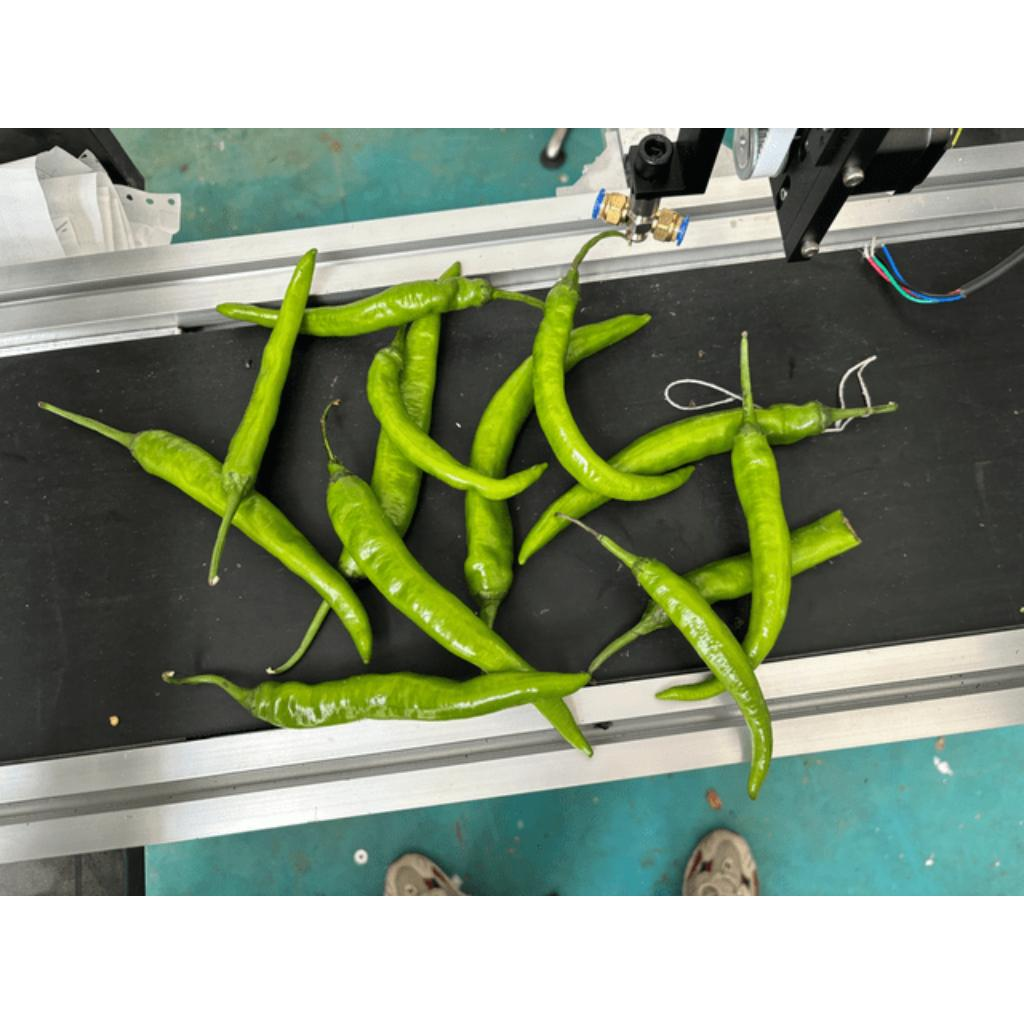chili: (323, 460, 597, 758), (129, 428, 375, 671), (460, 311, 656, 607), (515, 401, 835, 569), (337, 255, 464, 580), (652, 418, 793, 702), (530, 274, 699, 505), (630, 557, 778, 805), (362, 346, 553, 500), (642, 506, 868, 633), (216, 244, 321, 501), (245, 670, 594, 730), (213, 276, 494, 340)
